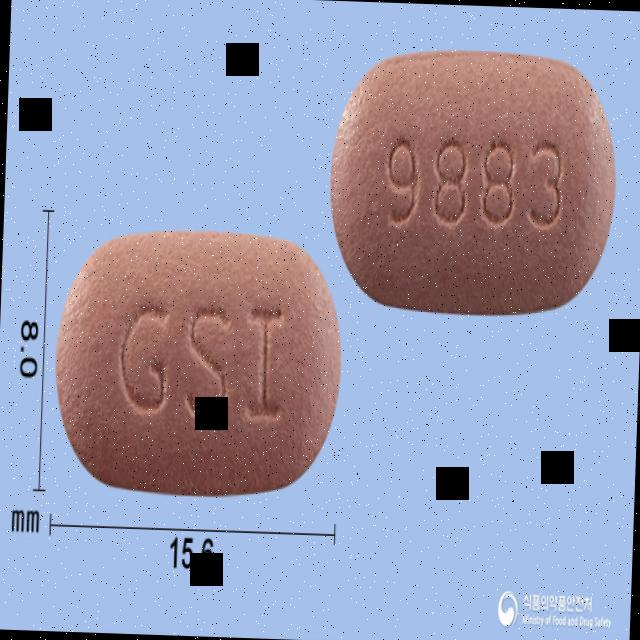Biktarvy: (48, 223, 350, 504)
